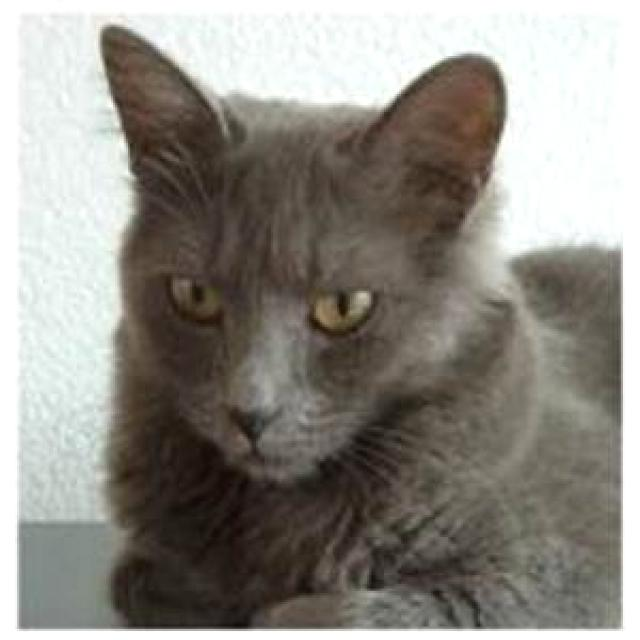KEDI: (86, 25, 623, 630)
